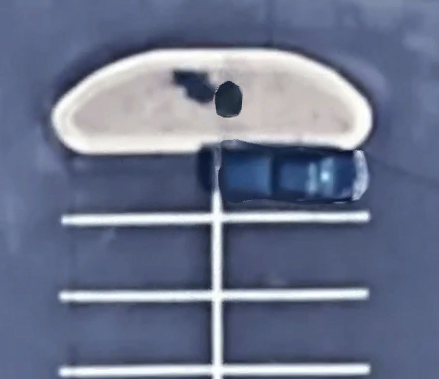Occupied: (217, 145, 368, 219)
Vacant: (217, 218, 366, 297), (64, 219, 217, 295), (64, 295, 216, 370), (65, 145, 218, 219), (217, 297, 368, 370)
